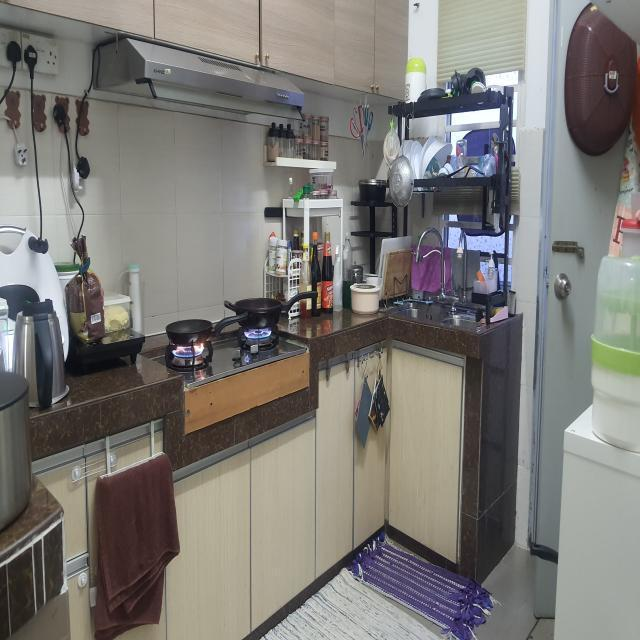Flame: (245, 324, 275, 345), (174, 343, 210, 356)
Pan: (225, 294, 322, 321), (166, 315, 245, 345), (349, 282, 384, 318), (358, 179, 386, 206)
